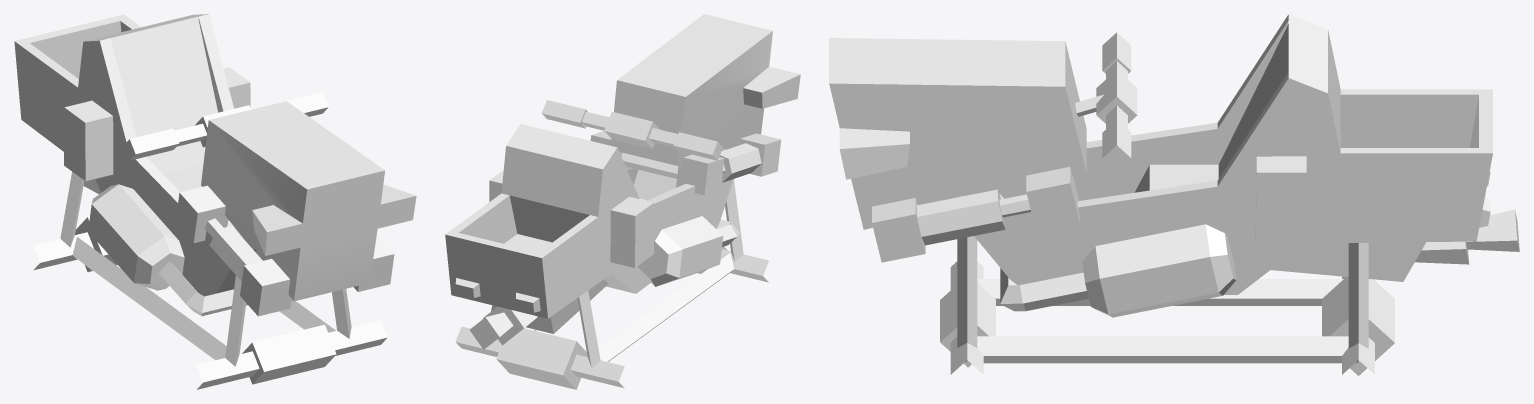
Rendered from Truck 2 Body.glb.
The picture shows the model from 3 angles, left to right: view 1: azimuth 30°, elevation 25°; view 2: azimuth 150°, elevation 25°; view 3: azimuth 270°, elevation 25°; orthographic projection. The views are drawn at different scales.
Visible parts, largest first — view 1: body, interior; view 2: body, interior; view 3: body, interior.
Part boxes in pixels (<box>): body: <box>14,14,416,301</box>; interior: <box>33,17,394,389</box>; body: <box>445,14,800,318</box>; interior: <box>455,100,781,389</box>; body: <box>829,14,1492,317</box>; interior: <box>872,23,1519,375</box>.
Bounding box in the file's own units: 1.88 × 2.39 × 4.86.
1 material, 1 textured.
